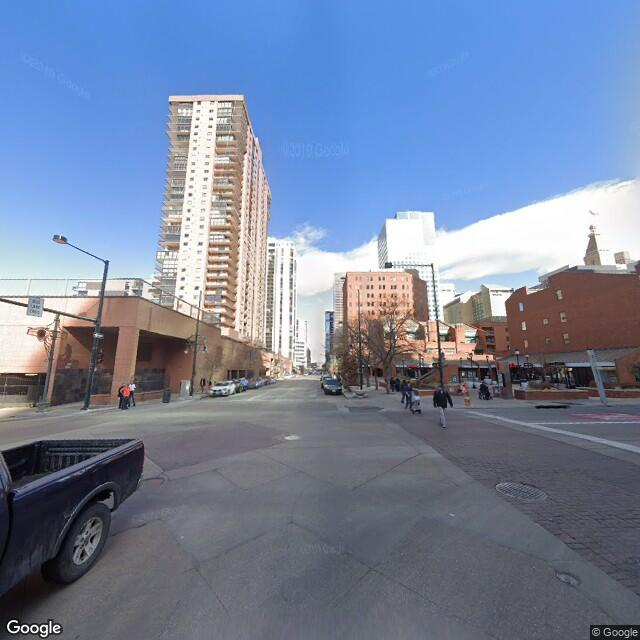fh: (459, 391, 477, 411)
lamp: (378, 259, 449, 389)
